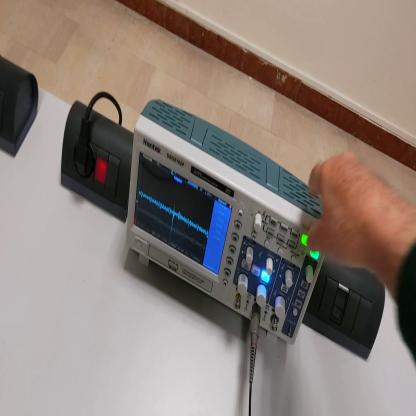hand: (305, 150, 399, 277)
oscilloscope: (126, 96, 323, 345)
socket: (60, 101, 136, 224), (2, 55, 39, 159)
